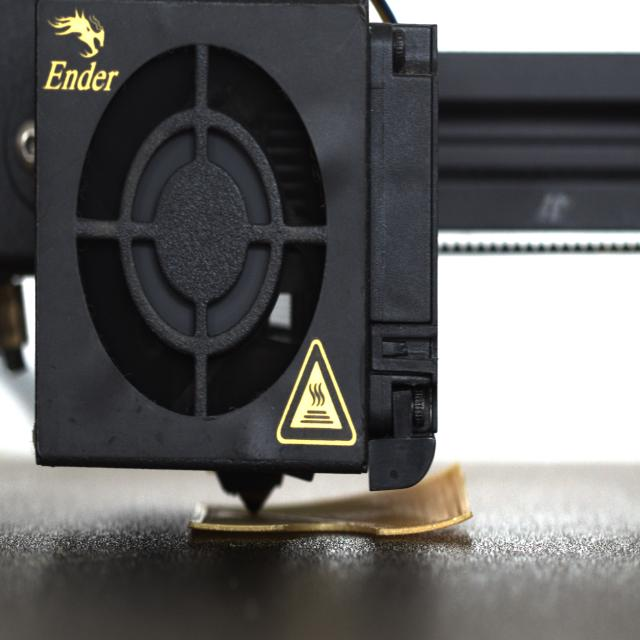Without deffect: (64, 39, 340, 461)
